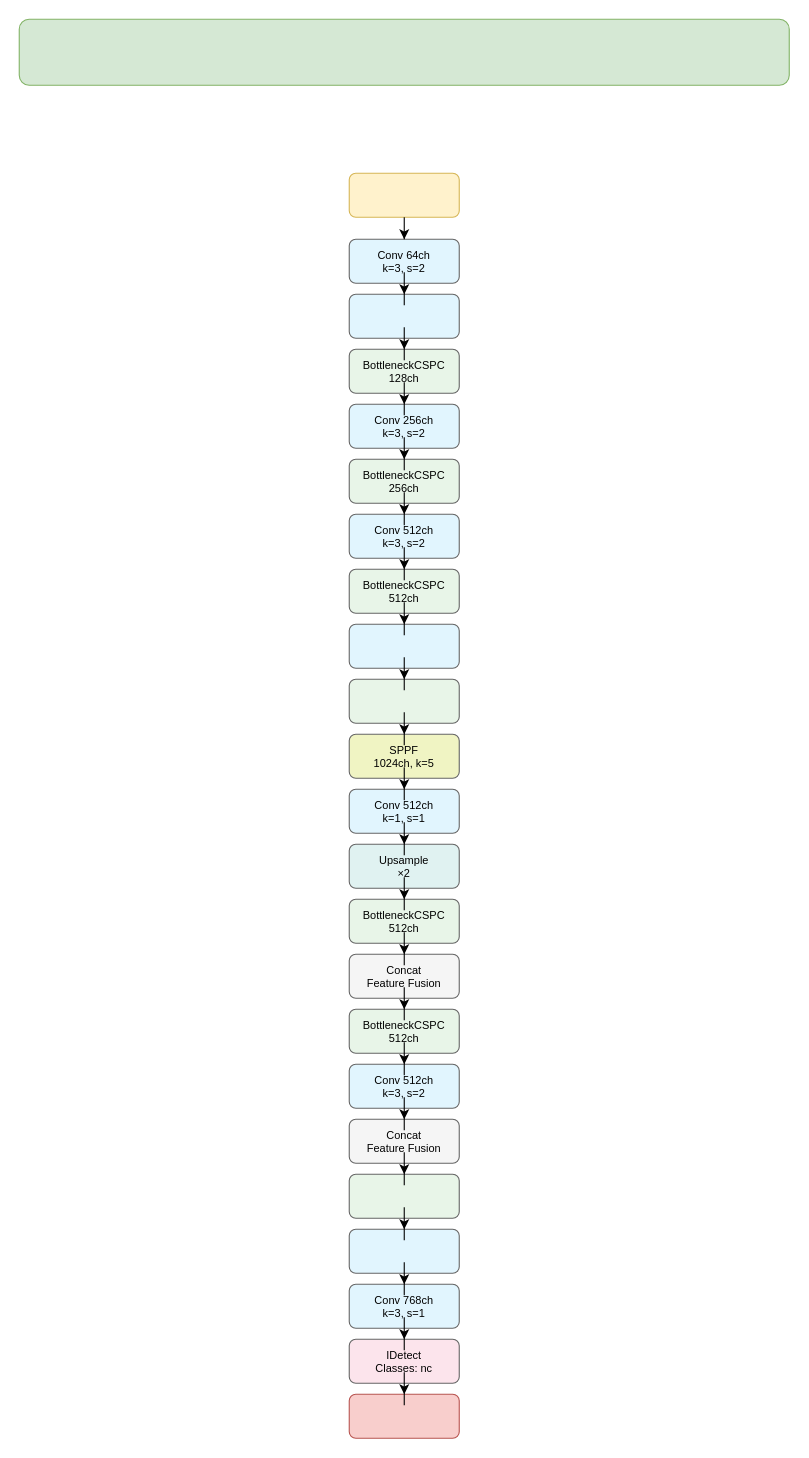
Image size: 809x1458. Some labels were removed from this diagram. The shapes that lost their labels are listed below. From the top down, each one's centre as x and y in pixels, then its label:
the point at 403,51: YOLOv4-CSP-IDetect 基础CSP-DarkNet backbone + IDetect检测头
the point at 403,194: Input Image 640×640×3
the point at 403,315: Conv 128ch k=3, s=2
the point at 403,645: Conv 1024ch k=3, s=2
the point at 403,700: BottleneckCSPC 1024ch
the point at 403,1195: BottleneckCSPC 768ch
the point at 403,1250: Conv 512ch k=3, s=1
the point at 403,1415: Output Detection Results
